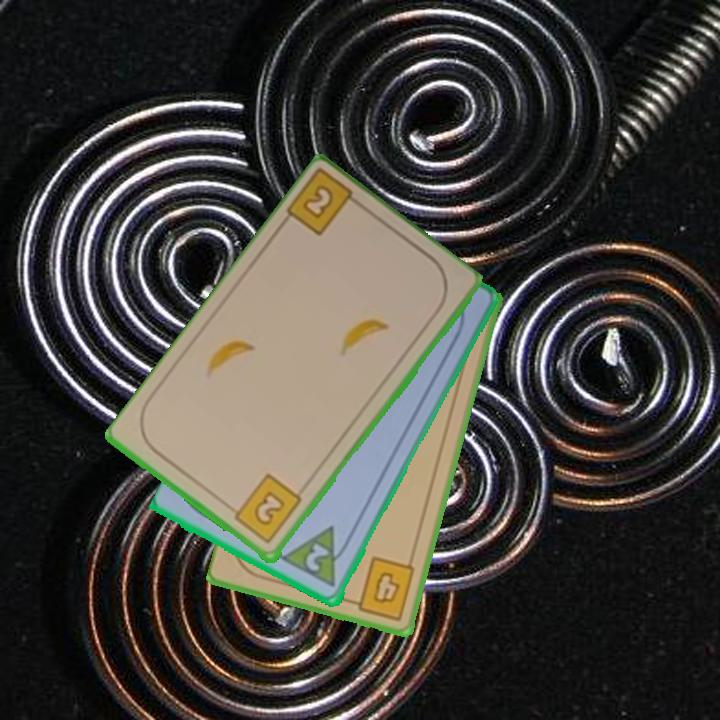2b: (283, 168, 368, 240), (225, 471, 305, 547)
2p: (280, 523, 355, 592)
4b: (345, 553, 418, 624)
